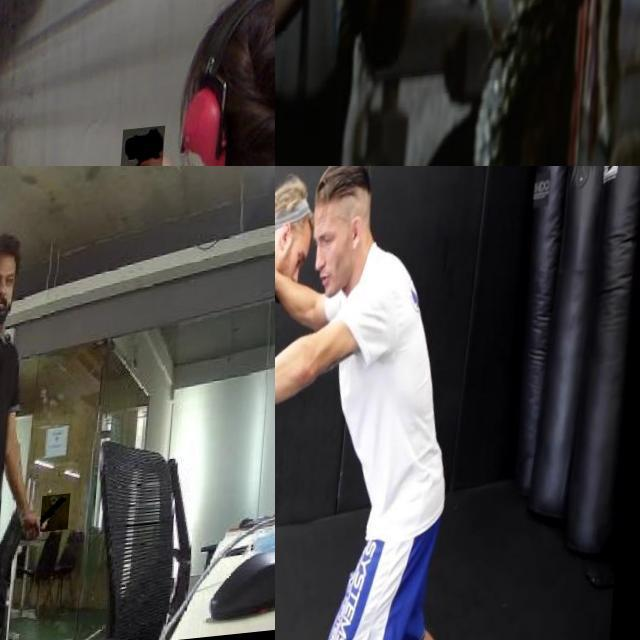-: (275, 387, 320, 507), (48, 500, 78, 540)
gun-knife-thesis - v11 Yolov5 augmented: (360, 0, 445, 110), (123, 131, 168, 166)
